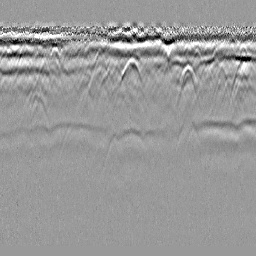cavity: (118, 54, 143, 86)
